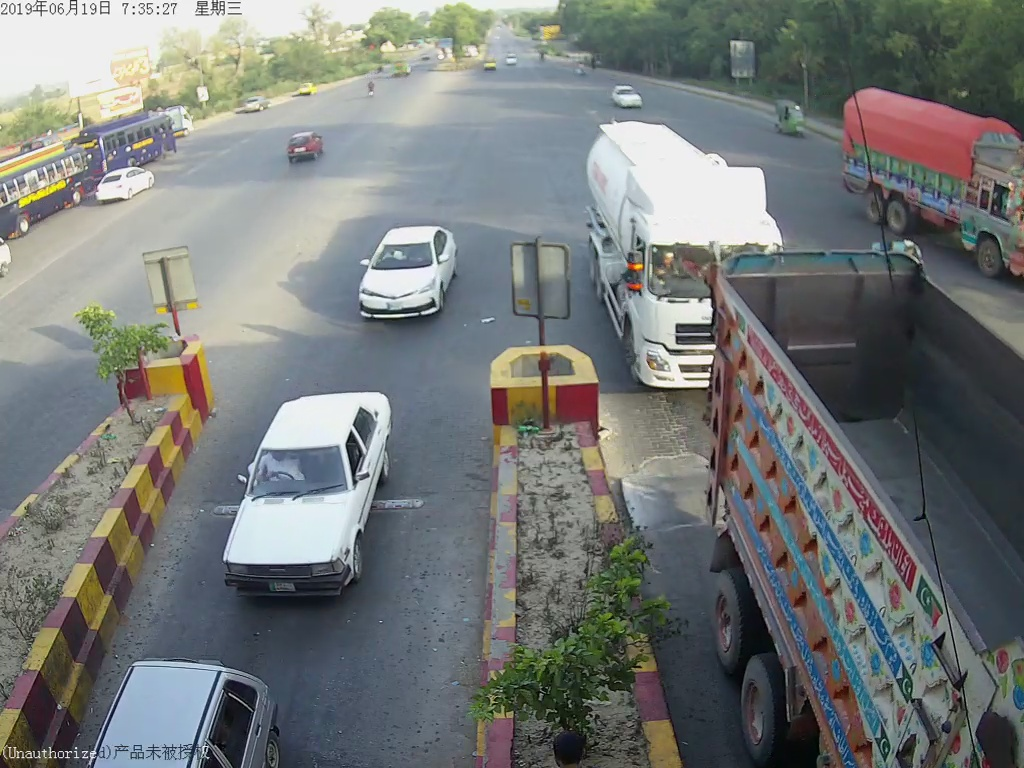Cat-1: (226, 379, 387, 595), (358, 215, 471, 318)
Cat-4: (588, 125, 710, 391)
